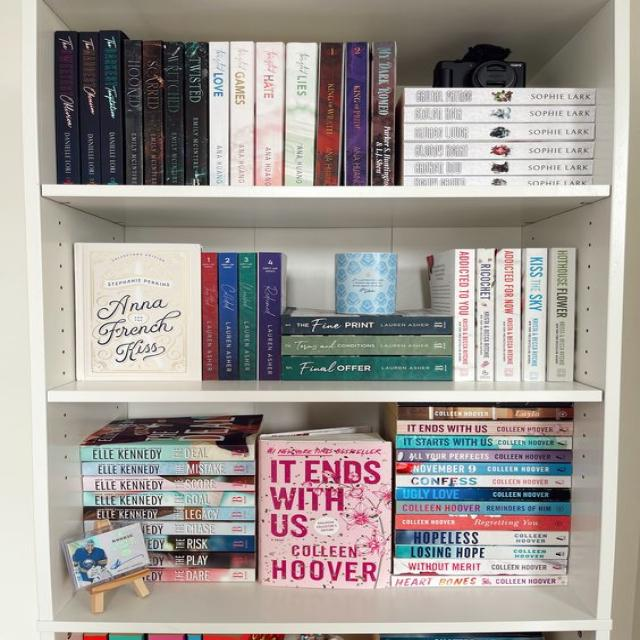book: (284, 43, 314, 185), (314, 43, 344, 185), (282, 356, 452, 381), (547, 248, 577, 382), (55, 30, 81, 184), (256, 42, 283, 186), (100, 30, 124, 185), (79, 31, 103, 185), (496, 249, 522, 382), (344, 43, 368, 185), (406, 88, 594, 106), (282, 316, 454, 335), (231, 42, 254, 184), (281, 336, 452, 355), (372, 42, 394, 186), (185, 43, 207, 186), (404, 143, 594, 159), (209, 42, 230, 186), (258, 252, 281, 380), (524, 249, 546, 381), (144, 40, 164, 184), (404, 124, 596, 139), (404, 107, 595, 122), (403, 160, 592, 175), (395, 530, 570, 546), (395, 514, 570, 530), (454, 249, 475, 381), (124, 39, 143, 184), (165, 41, 184, 185), (393, 559, 568, 574), (396, 487, 570, 502), (219, 253, 239, 380), (397, 421, 574, 435), (399, 406, 573, 420), (395, 545, 569, 559), (81, 446, 254, 460), (82, 477, 254, 491), (396, 436, 572, 449), (395, 475, 571, 488), (201, 253, 219, 380), (82, 462, 256, 475), (83, 493, 255, 506), (239, 253, 256, 381), (477, 248, 493, 382), (396, 450, 572, 462), (396, 502, 570, 514), (83, 508, 254, 520), (395, 463, 572, 474), (390, 576, 568, 586), (403, 177, 591, 186), (144, 537, 254, 552), (150, 553, 256, 568), (152, 568, 255, 582), (143, 523, 255, 535)
camera: (426, 43, 530, 88)
